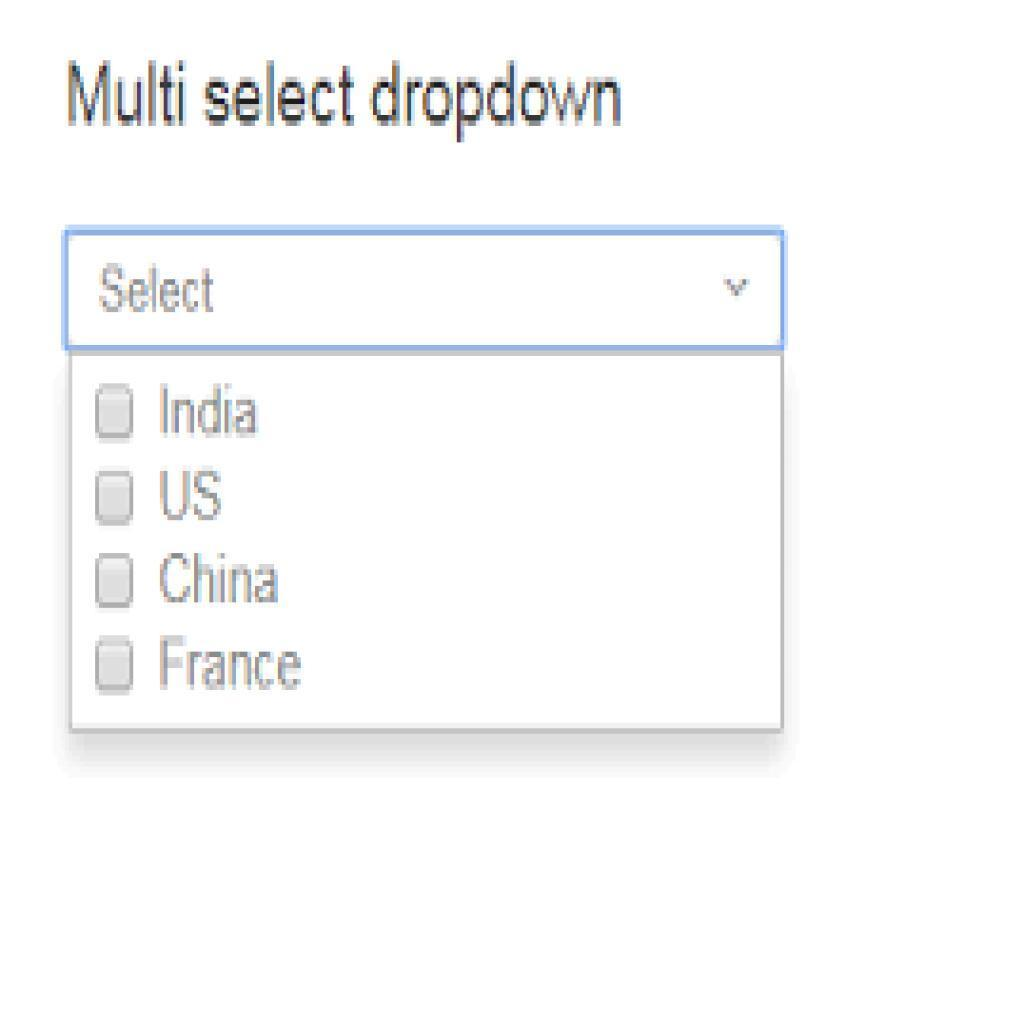checkbox: (95, 636, 135, 698), (95, 552, 135, 610), (95, 384, 135, 441), (96, 472, 135, 525)
dropdown: (62, 227, 790, 355)
label: (154, 631, 313, 695), (151, 548, 289, 612), (157, 379, 266, 442), (156, 465, 226, 526)
